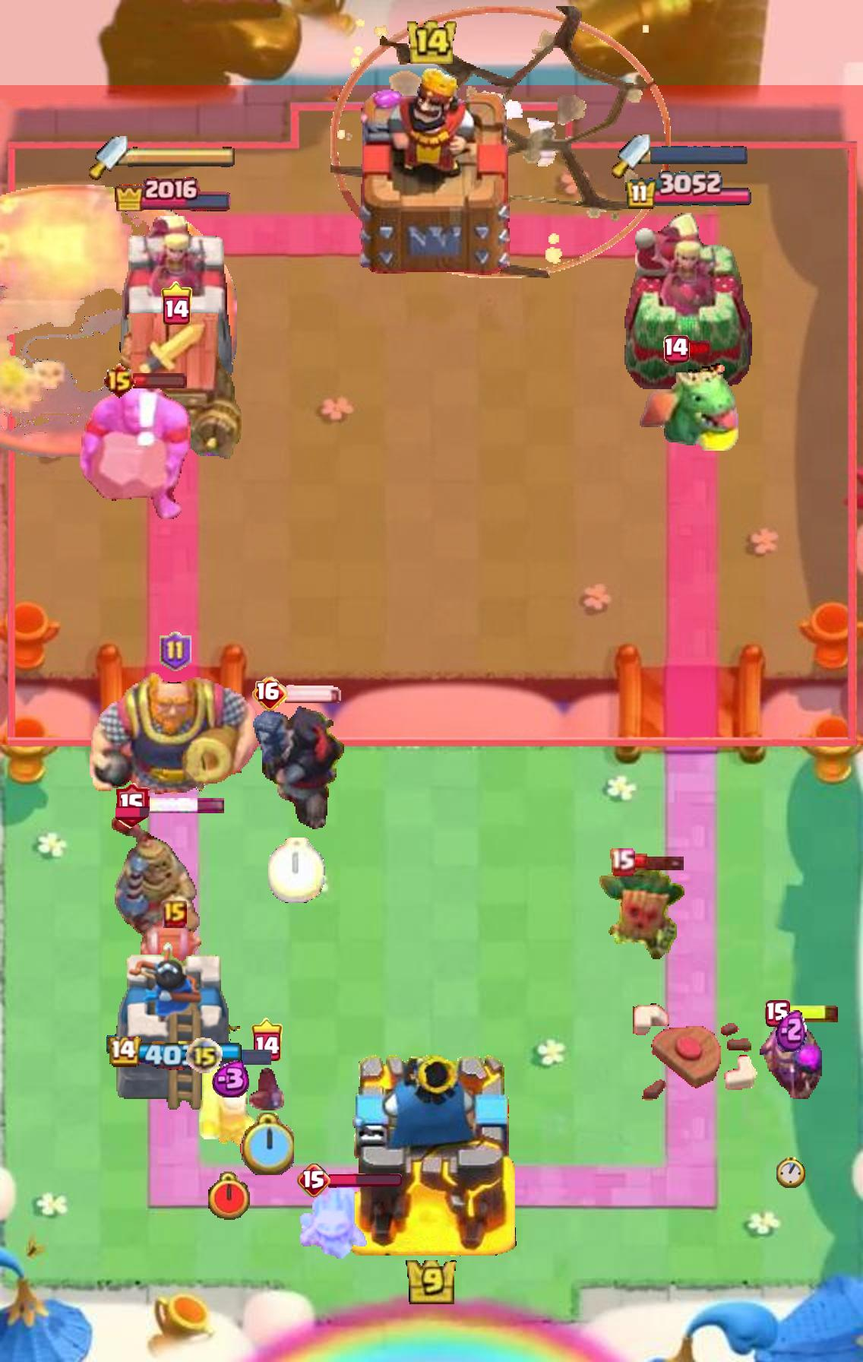elixir: (207, 1061, 252, 1098), (776, 1008, 807, 1052)
